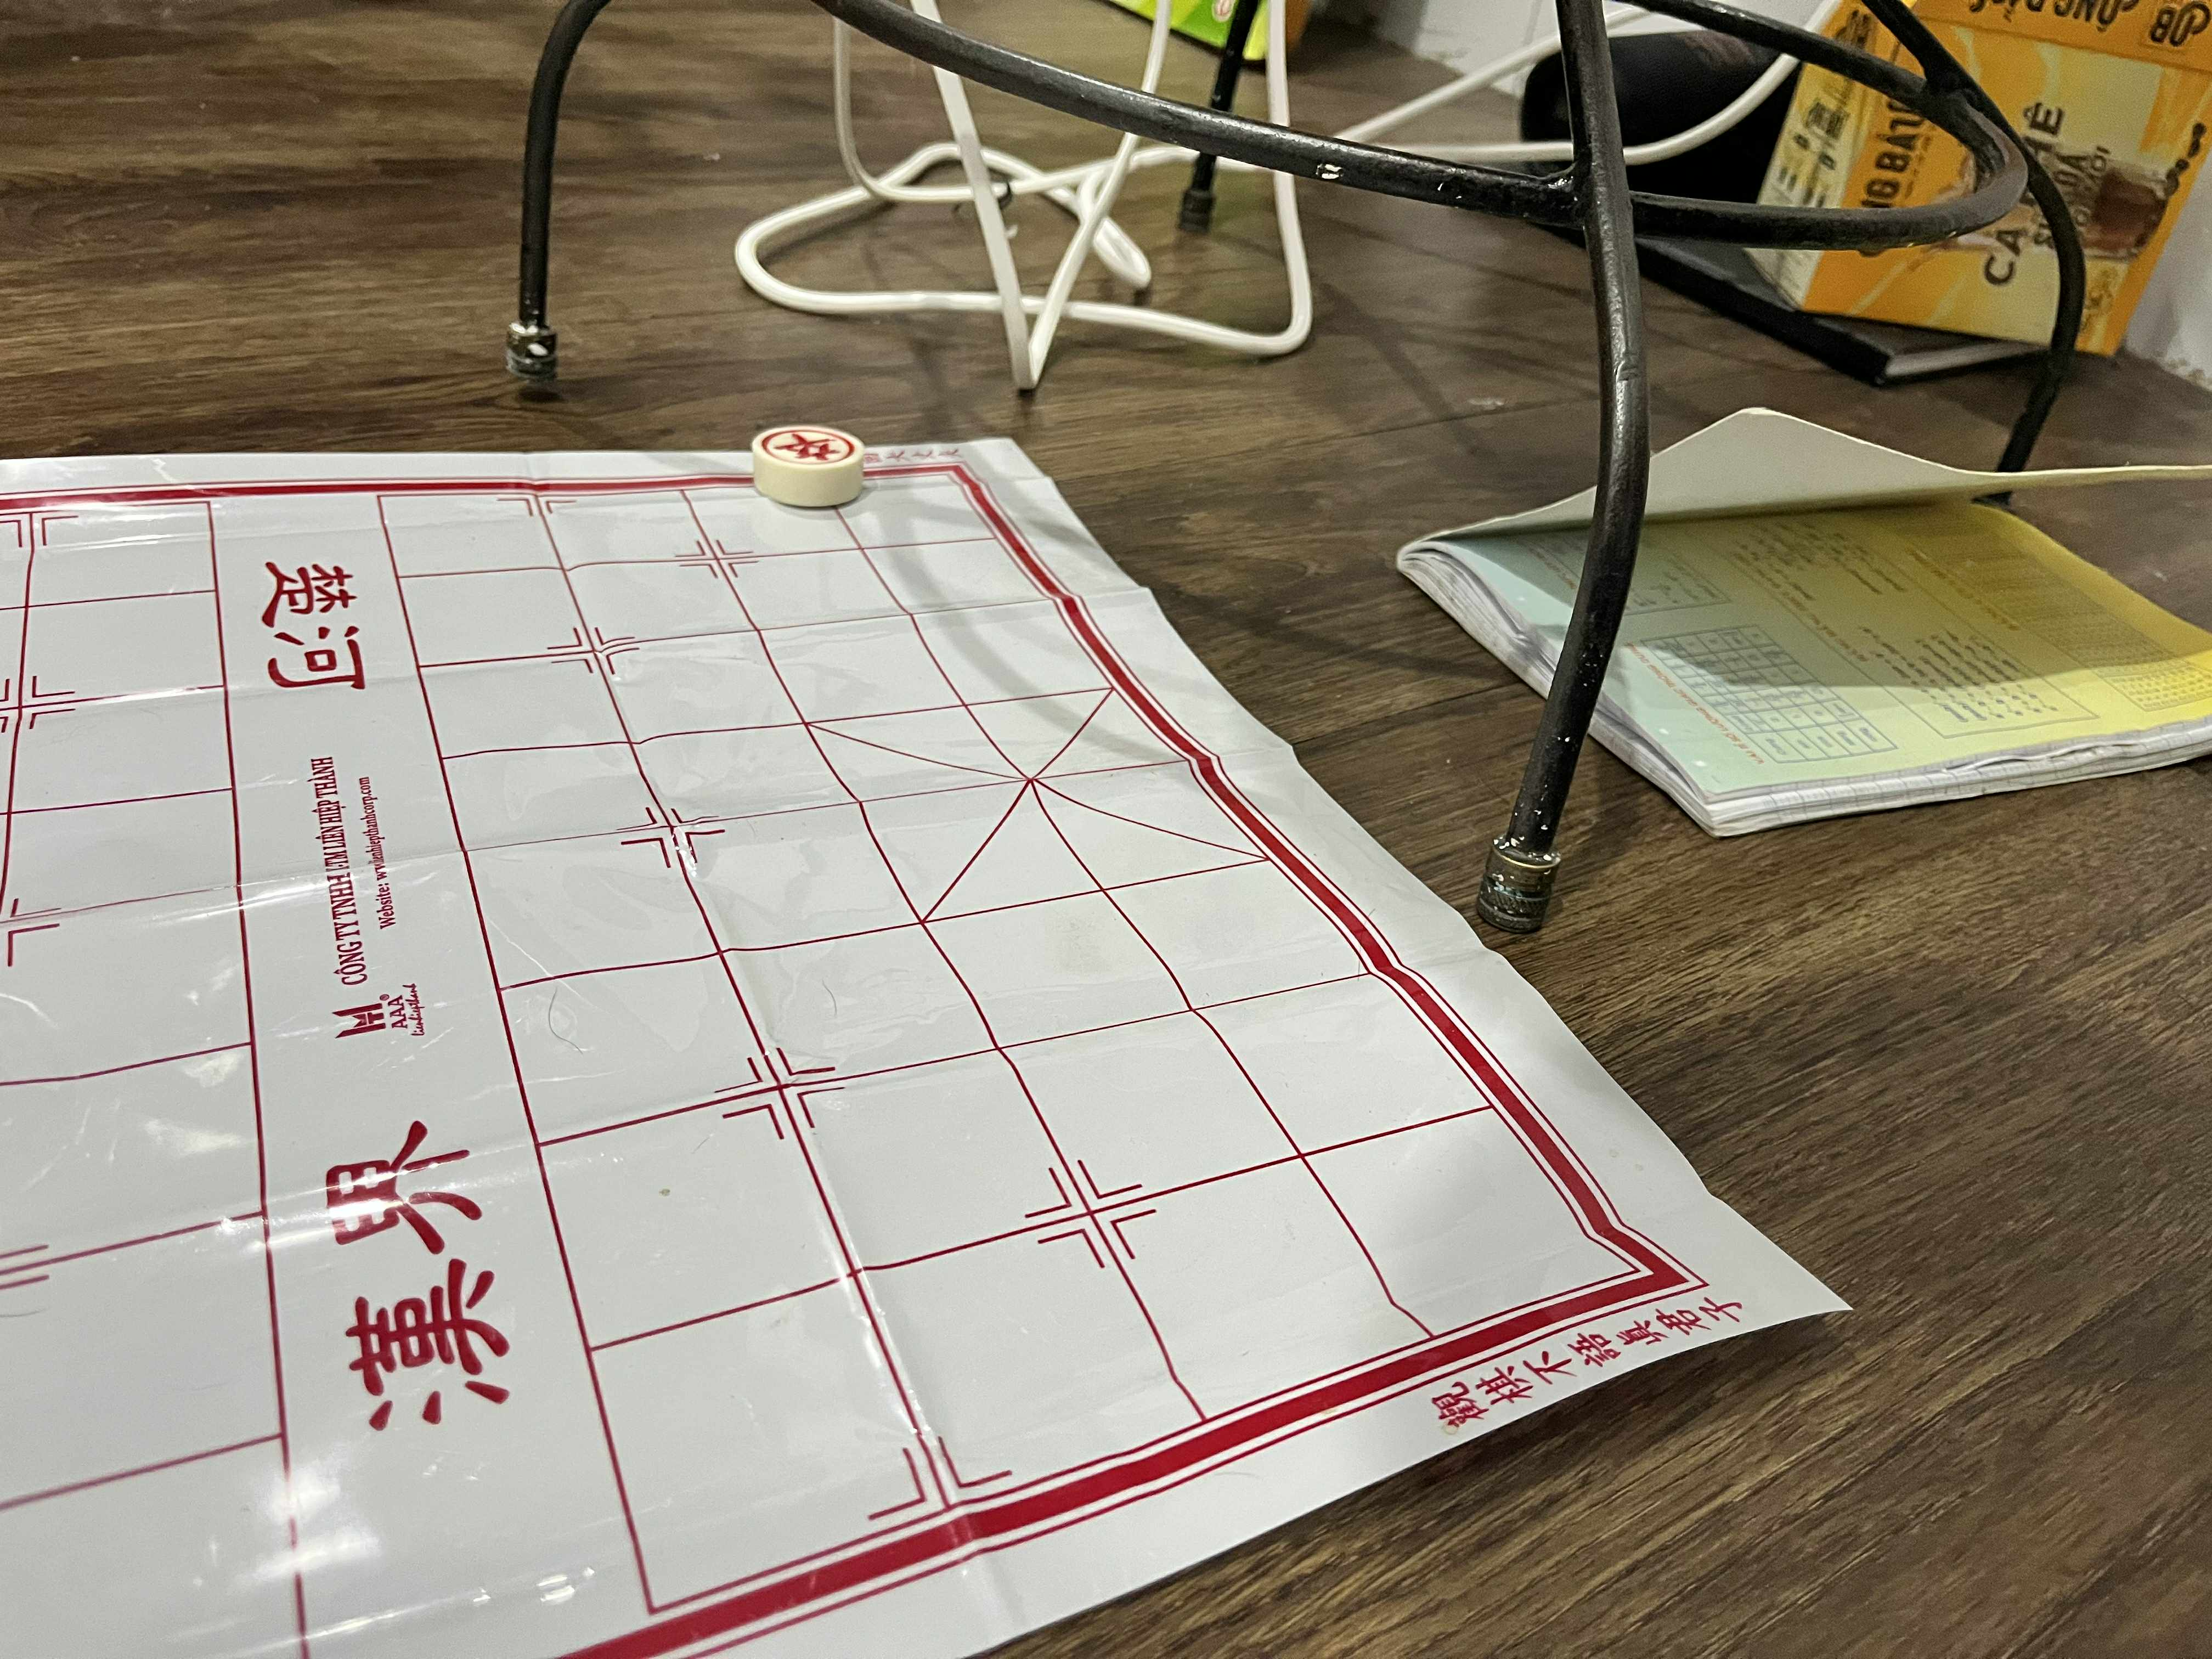red-soldier: (752, 420, 866, 472)
